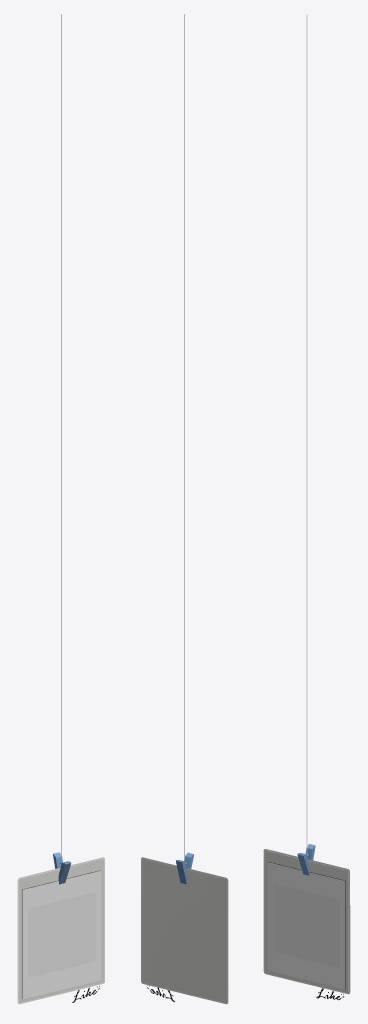
Rendered from Down.FBX.
The picture shows the model from 3 angles, left to right: view 1: azimuth 30°, elevation 25°; view 2: azimuth 150°, elevation 25°; view 3: azimuth 330°, elevation 25°; orthographic projection.
Visible parts, largest first — view 1: DownLoad, LoadFlash, PhotoFrame, DownLine, BoderGlow, DownClip; view 2: PhotoFrame, BoderGlow, DownLine, DownClip; view 3: DownLoad, LoadFlash, PhotoFrame, DownLine, BoderGlow, DownClip.
Boxes of the visible parts, <box> form: DownLoad: <box>26,889,97,980</box>; LoadFlash: <box>22,870,101,999</box>; PhotoFrame: <box>19,859,103,1002</box>; DownLine: <box>61,14,61,863</box>; BoderGlow: <box>17,857,104,1004</box>; DownClip: <box>53,852,71,884</box>; PhotoFrame: <box>142,859,226,1002</box>; BoderGlow: <box>141,857,228,1004</box>; DownLine: <box>184,14,184,861</box>; DownClip: <box>176,852,193,884</box>; DownLoad: <box>271,881,341,970</box>; LoadFlash: <box>267,862,345,989</box>; PhotoFrame: <box>265,850,348,992</box>; DownLine: <box>306,14,307,854</box>; BoderGlow: <box>263,849,350,994</box>; DownClip: <box>297,844,315,875</box>.
Size of the model in its own units: 4.95 by 49.65 by 1.1.
